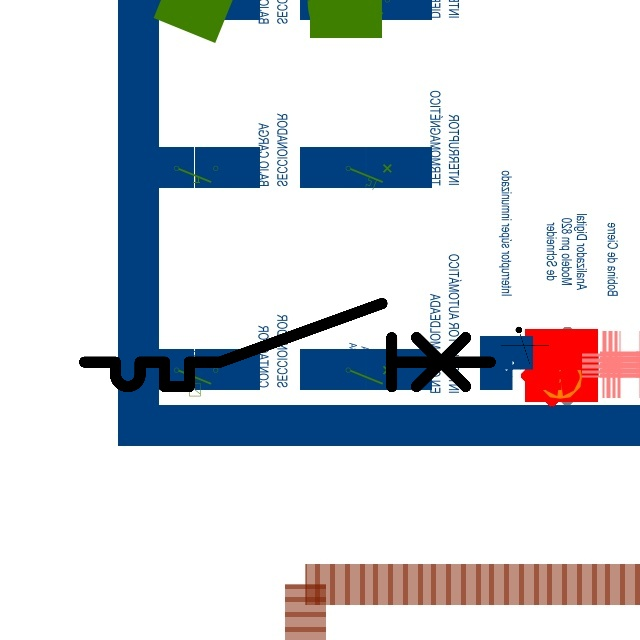interruptor_termomagnetico: (74, 293, 501, 397)
